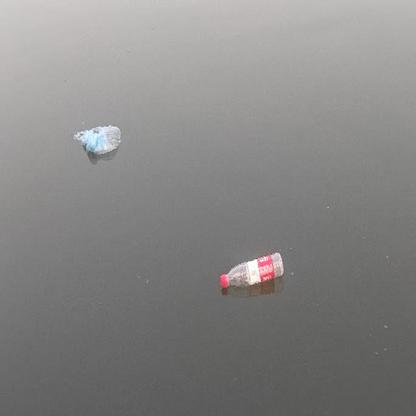plastic bag: (74, 125, 122, 153)
plastic bottle: (220, 253, 284, 286)
